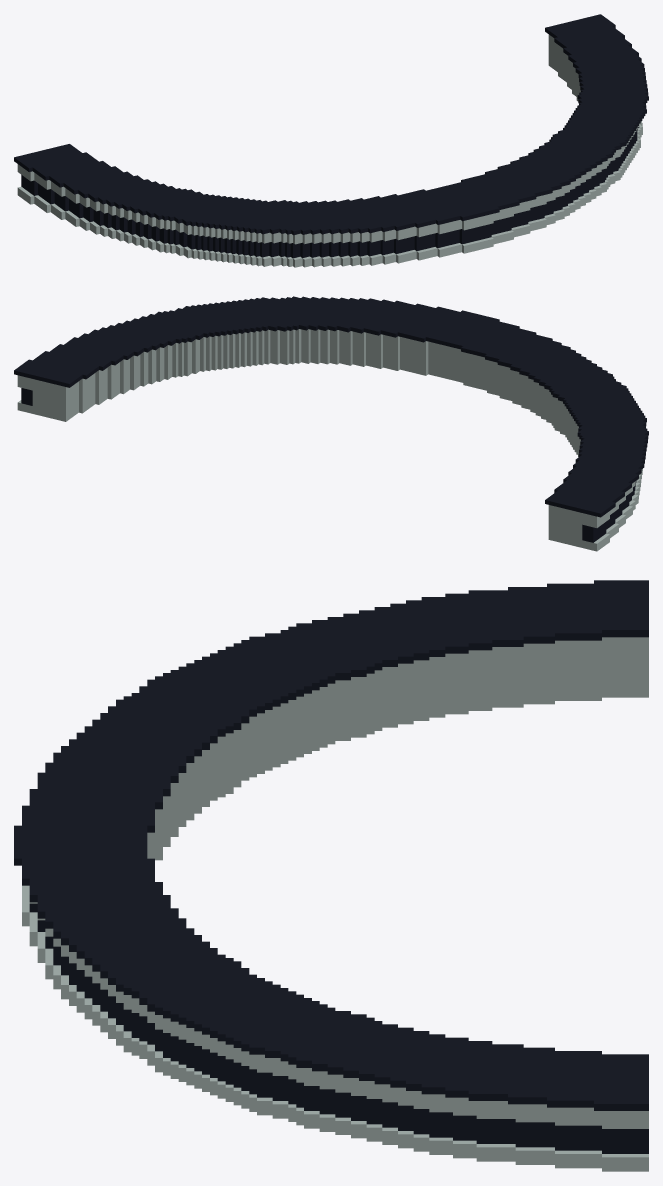
The model's file is LabReception.obj.
The picture shows the model from 3 angles, top to bottom: view 1: azimuth 30°, elevation 25°; view 2: azimuth 150°, elevation 25°; view 3: azimuth 270°, elevation 25°; orthographic projection. The views are drawn at different scales.
Size of the model in its own units: 15.8 by 1 by 8.1.
1 material, 1 textured.
